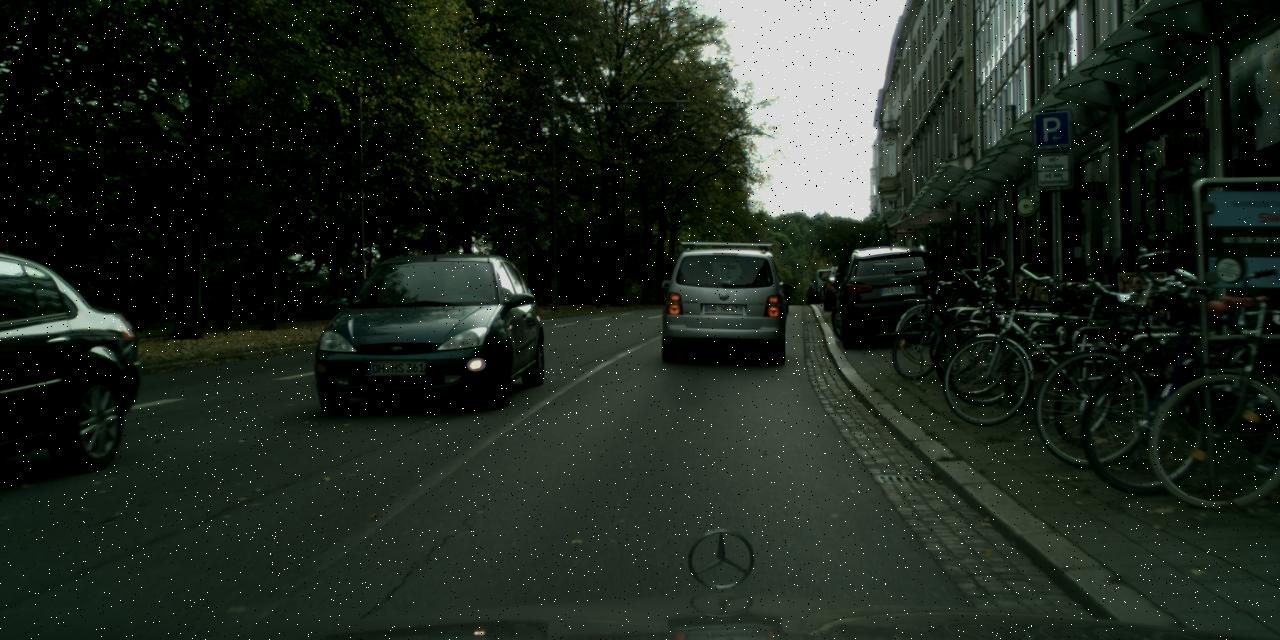ped: (1118, 222, 1162, 329)
